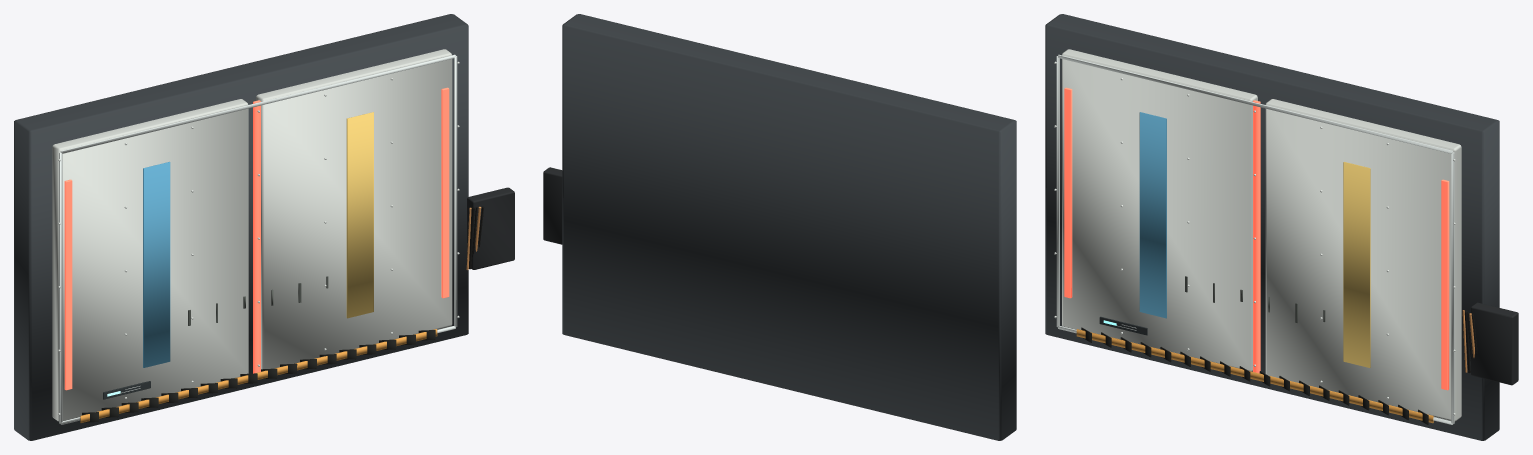
The model's file is hp_door_identity_archive.glb.
3 renders of one model, left to right at view 1: azimuth 30°, elevation 25°; view 2: azimuth 150°, elevation 25°; view 3: azimuth 330°, elevation 25°, orthographic.
Visible parts, largest first — view 1: door_identity_archive_left_panel, door_identity_archive_right_panel, door_identity_archive_frame, door_identity_archive_right_protocol_color_mass_art_color_bl, door_identity_archive_left_archive_color_mass_art_color_bloc, door_identity_archive_access_panel_mount, door_identity_archive_center_red_seam, door_identity_archive_status_light_left, door_identity_archive_status_light_right, door_identity_archive_threshold_warning_hazard_band_back, door_identity_archive_hero_trim_trim_top, door_identity_archive_hero_trim_trim_right (+1 smaller); view 2: door_identity_archive_frame, door_identity_archive_access_panel_mount; view 3: door_identity_archive_right_panel, door_identity_archive_left_panel, door_identity_archive_frame, door_identity_archive_left_archive_color_mass_art_color_bloc, door_identity_archive_right_protocol_color_mass_art_color_bl, door_identity_archive_access_panel_mount, door_identity_archive_center_red_seam, door_identity_archive_threshold_warning_hazard_band_back, door_identity_archive_status_light_left, door_identity_archive_status_light_right, door_identity_archive_hero_trim_trim_top, door_identity_archive_hero_trim_trim_left (+1 smaller).
Boxes of the visible parts, x1,y1,x2,y2 form: door_identity_archive_left_panel: (52, 99, 248, 421); door_identity_archive_right_panel: (256, 49, 452, 369); door_identity_archive_frame: (14, 14, 468, 440); door_identity_archive_right_protocol_color_mass_art_color_bl: (346, 112, 373, 318); door_identity_archive_left_archive_color_mass_art_color_bloc: (143, 162, 170, 367); door_identity_archive_access_panel_mount: (467, 187, 514, 269); door_identity_archive_center_red_seam: (253, 100, 260, 373); door_identity_archive_status_light_left: (64, 179, 72, 390); door_identity_archive_status_light_right: (441, 87, 449, 298); door_identity_archive_threshold_warning_hazard_band_back: (80, 329, 437, 422); door_identity_archive_hero_trim_trim_top: (60, 54, 455, 153); door_identity_archive_hero_trim_trim_right: (454, 56, 457, 327); door_identity_archive_frame: (562, 14, 1016, 440); door_identity_archive_access_panel_mount: (543, 167, 562, 244); door_identity_archive_right_panel: (1265, 99, 1461, 421); door_identity_archive_left_panel: (1062, 49, 1257, 371); door_identity_archive_frame: (1045, 14, 1499, 440); door_identity_archive_left_archive_color_mass_art_color_bloc: (1139, 112, 1166, 318); door_identity_archive_right_protocol_color_mass_art_color_bl: (1343, 162, 1370, 367); door_identity_archive_access_panel_mount: (1471, 302, 1518, 385); door_identity_archive_center_red_seam: (1253, 100, 1260, 373); door_identity_archive_threshold_warning_hazard_band_back: (1076, 329, 1433, 423); door_identity_archive_status_light_left: (1064, 87, 1072, 298); door_identity_archive_status_light_right: (1441, 179, 1449, 390); door_identity_archive_hero_trim_trim_top: (1058, 54, 1453, 153); door_identity_archive_hero_trim_trim_left: (1056, 56, 1059, 327).
Bounding box in the file's own units: 5.62 × 3.5 × 0.6033.
